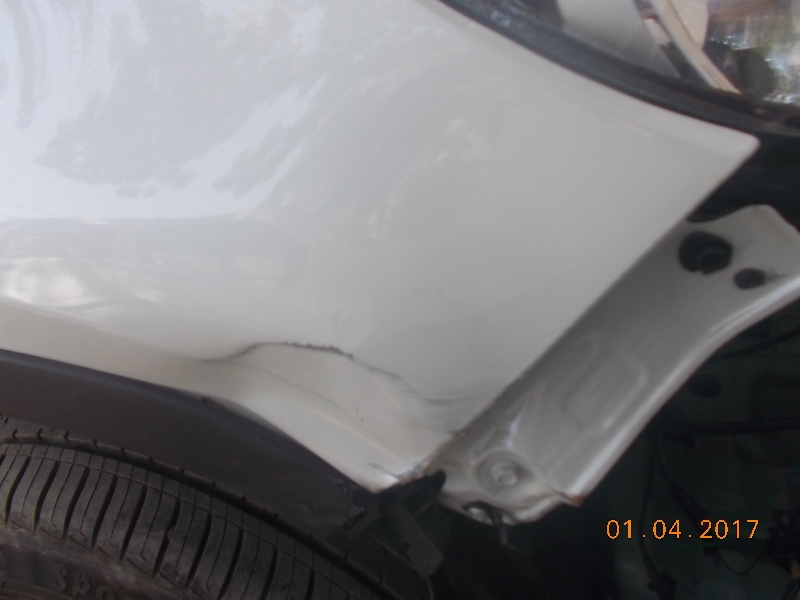Scratch_or_spot: (198, 329, 393, 395)
